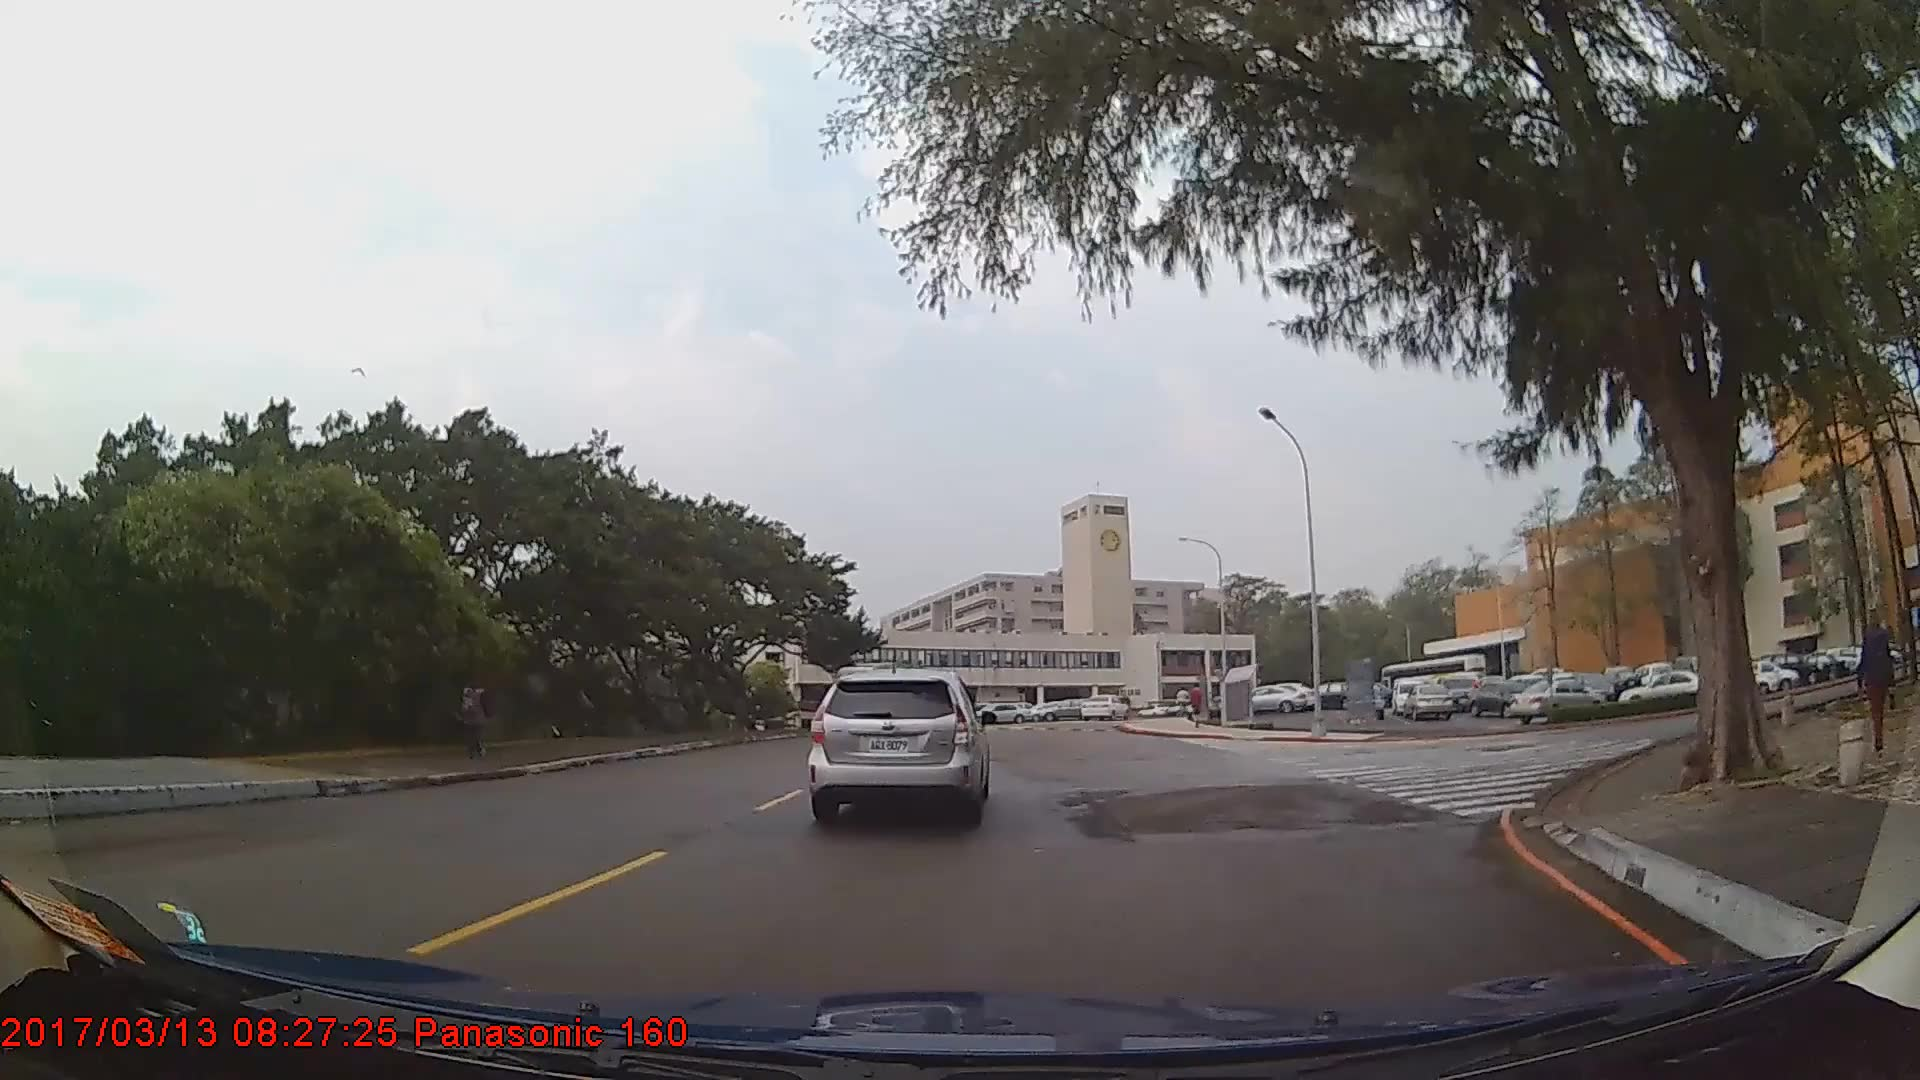pedestrian: (1855, 623, 1900, 754), (454, 667, 496, 756)
vehicle: (809, 668, 988, 823), (1507, 678, 1603, 726), (1619, 666, 1715, 713), (1468, 674, 1544, 715), (1404, 680, 1453, 720), (1238, 684, 1307, 712), (1033, 697, 1098, 721), (1078, 693, 1130, 722), (973, 700, 1030, 722)
